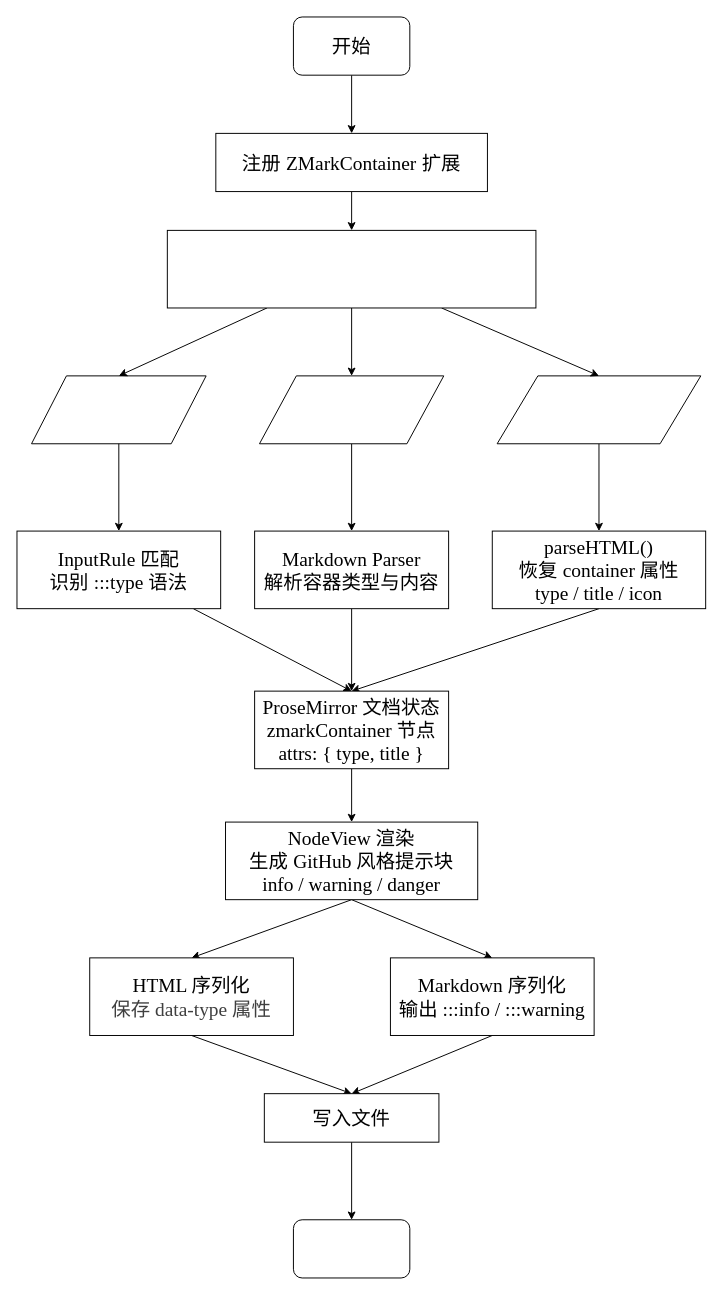
Image size: 723x1295. Some labels were removed from this diagram. Here are the shapes that lost their labels. From the top down, the centre of each, then its label:
At point 351,268: "Tiptap Editor 初始化 Node Extension 注册至 ProseMirror Schema".
At point 118,409: "用户键入 :::info".
At point 351,409: "Markdown 导入 :::warning / :::tip".
At point 598,409: "HTML 导入".
At point 351,1248: "结束".
